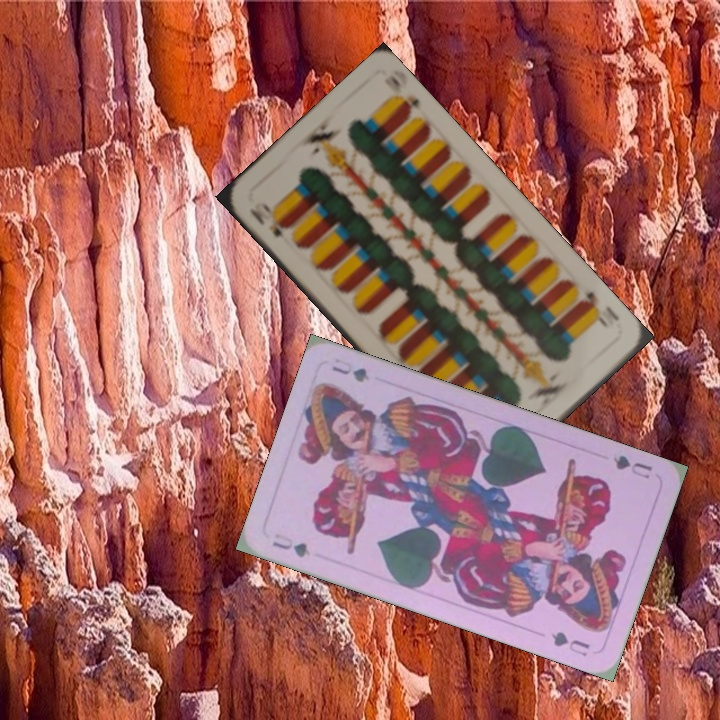E10: (245, 198, 290, 241), (575, 287, 611, 331)
GU: (268, 529, 313, 561), (609, 451, 655, 482)
